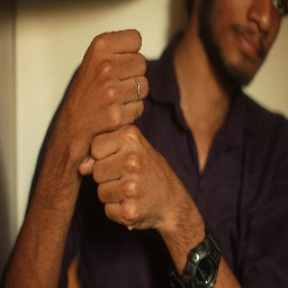G: (61, 27, 177, 234)
